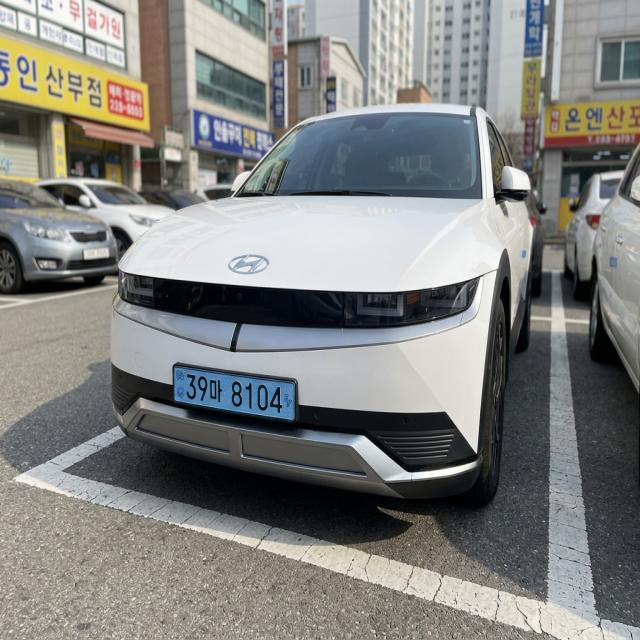car: (163, 359, 313, 435)
carev: (281, 379, 299, 429), (173, 363, 185, 406)
